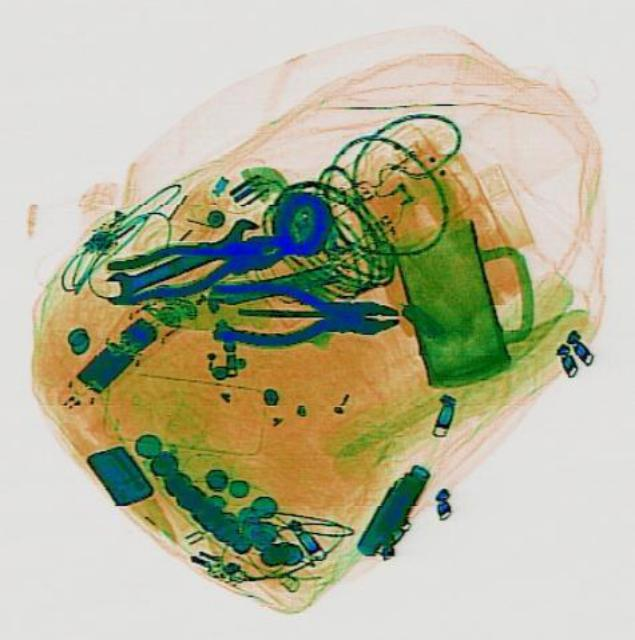Pliers: (101, 214, 290, 314), (208, 279, 399, 347)
Wrench: (94, 211, 266, 309)
